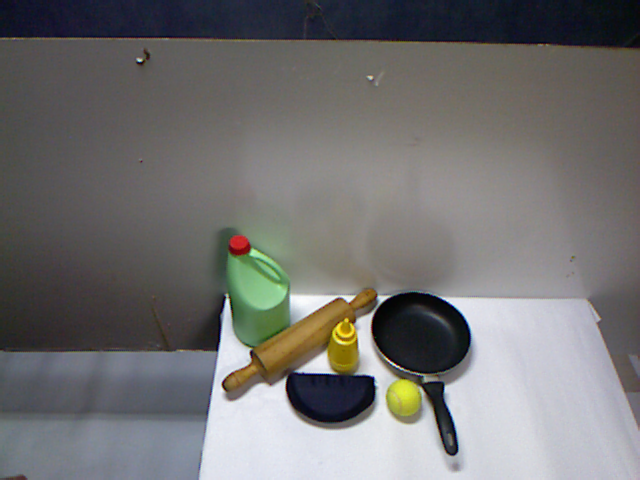cubix: (303, 326, 347, 382)
guante: (216, 281, 317, 434)
jabon: (301, 371, 358, 420)
linterna: (347, 329, 411, 406)
pepino: (305, 302, 446, 349)
platano: (366, 344, 457, 441)
